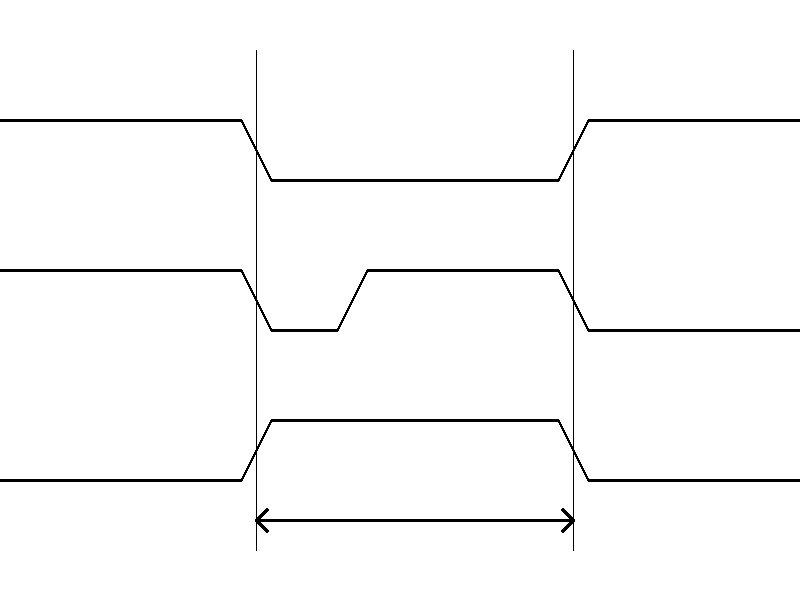double_arrow: (256, 505, 573, 535)
